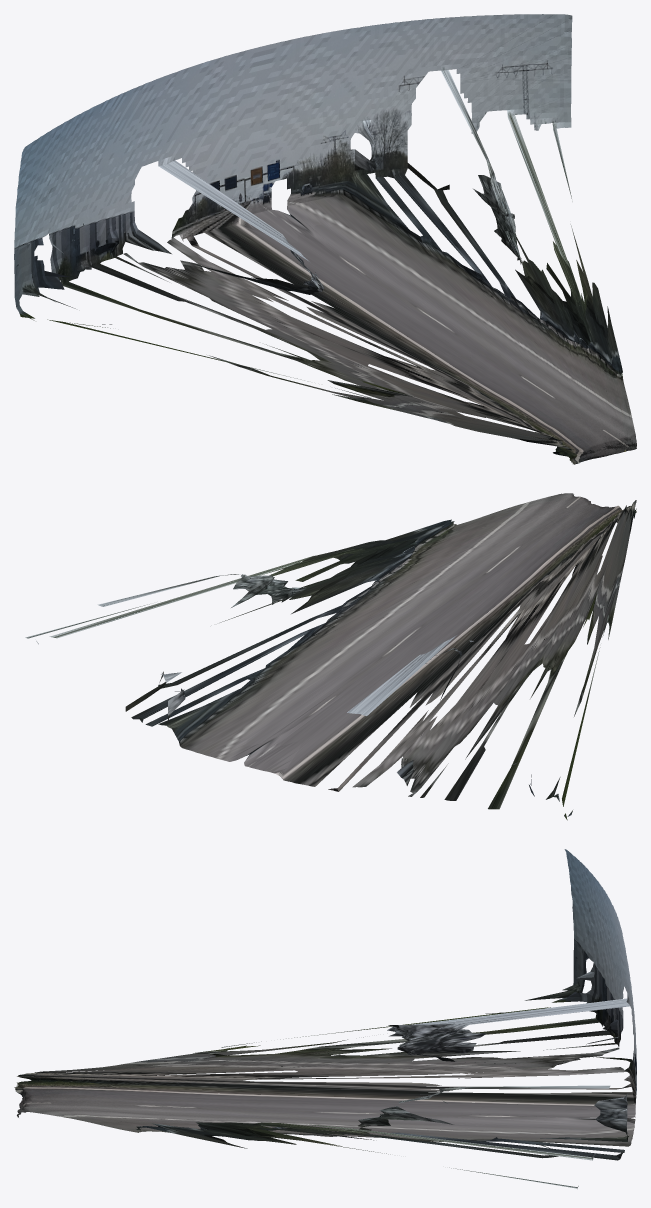
3 renders of one model, top to bottom at view 1: azimuth 30°, elevation 25°; view 2: azimuth 150°, elevation 25°; view 3: azimuth 270°, elevation 25°, orthographic. The views are drawn at different scales.
Parts seen in each view (by area): view 1: defaultobject; view 2: defaultobject; view 3: defaultobject.
Part boxes in pixels (left/top/right/bottom): defaultobject: left=14, top=14, right=636, bottom=464; defaultobject: left=25, top=493, right=636, bottom=820; defaultobject: left=14, top=849, right=636, bottom=1188.
Size of the model in its own units: 41.14 by 12.87 by 44.6.
1 material, 1 textured.
